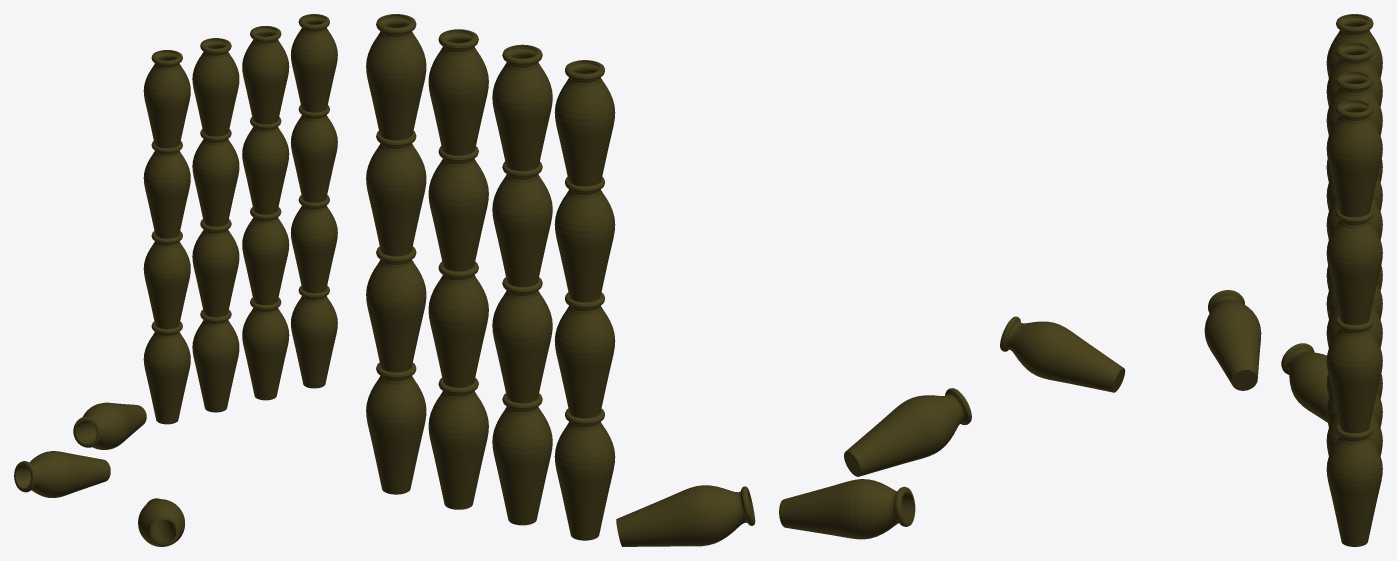
The model's file is P_Vasija1.obj.
The picture shows the model from 3 angles, left to right: view 1: azimuth 30°, elevation 25°; view 2: azimuth 150°, elevation 25°; view 3: azimuth 270°, elevation 25°; orthographic projection. The views are drawn at different scales.
Visible parts, largest first — view 1: P_Vasjia1.012, P_Vasjia1.004, P_Vasjia1.011, P_Vasjia1.003, P_Vasjia1.015, P_Vasjia1, P_Vasjia1.008, P_Vasjia1.007, P_Vasjia1.014, P_Vasjia1.001, P_Vasjia1.006, P_Vasjia1.009 (+7 smaller); view 2: P_Vasjia1.016, P_Vasjia1.017, P_Vasjia1.018, P_Vasjia1.004, P_Vasjia1.003, P_Vasjia1.012, P_Vasjia1.011, P_Vasjia1.015, P_Vasjia1, P_Vasjia1.007, P_Vasjia1.008, P_Vasjia1.001 (+7 smaller); view 3: P_Vasjia1.018, P_Vasjia1.003, P_Vasjia1, P_Vasjia1.001, P_Vasjia1.002, P_Vasjia1.017, P_Vasjia1.016, P_Vasjia1.012, P_Vasjia1.004, P_Vasjia1.011, P_Vasjia1.006, P_Vasjia1.007 (+3 smaller).
Part boxes in pixels (bbox=[...]): P_Vasjia1.012: bbox=[192, 38, 239, 136]; P_Vasjia1.004: bbox=[242, 26, 289, 124]; P_Vasjia1.011: bbox=[143, 50, 190, 148]; P_Vasjia1.003: bbox=[291, 14, 337, 112]; P_Vasjia1.015: bbox=[192, 310, 239, 412]; P_Vasjia1: bbox=[290, 285, 337, 388]; P_Vasjia1.008: bbox=[143, 321, 190, 424]; P_Vasjia1.007: bbox=[242, 297, 289, 400]; P_Vasjia1.014: bbox=[192, 219, 239, 317]; P_Vasjia1.001: bbox=[291, 195, 337, 293]; P_Vasjia1.006: bbox=[242, 207, 289, 304]; P_Vasjia1.009: bbox=[143, 231, 190, 328]; P_Vasjia1.016: bbox=[616, 485, 755, 546]; P_Vasjia1.017: bbox=[779, 479, 915, 539]; P_Vasjia1.018: bbox=[844, 388, 971, 476]; P_Vasjia1.004: bbox=[428, 29, 488, 155]; P_Vasjia1.003: bbox=[366, 14, 426, 140]; P_Vasjia1.012: bbox=[492, 44, 552, 171]; P_Vasjia1.011: bbox=[554, 60, 615, 186]; P_Vasjia1.015: bbox=[492, 393, 552, 525]; P_Vasjia1: bbox=[366, 362, 426, 494]; P_Vasjia1.007: bbox=[428, 378, 488, 509]; P_Vasjia1.008: bbox=[554, 408, 615, 540]; P_Vasjia1.001: bbox=[366, 246, 426, 372]; P_Vasjia1.018: bbox=[1000, 316, 1125, 392]; P_Vasjia1.003: bbox=[1326, 99, 1382, 217]; P_Vasjia1: bbox=[1326, 424, 1382, 546]; P_Vasjia1.001: bbox=[1326, 316, 1382, 433]; P_Vasjia1.002: bbox=[1326, 208, 1382, 325]; P_Vasjia1.017: bbox=[1204, 290, 1261, 390]; P_Vasjia1.016: bbox=[1281, 343, 1328, 422]; P_Vasjia1.012: bbox=[1326, 42, 1382, 106]; P_Vasjia1.004: bbox=[1326, 71, 1382, 135]; P_Vasjia1.011: bbox=[1326, 14, 1382, 77]; P_Vasjia1.006: bbox=[1326, 305, 1382, 347]; P_Vasjia1.007: bbox=[1326, 413, 1382, 455].
Size of the model in its own units: 5.41 by 5.11 by 4.07.
